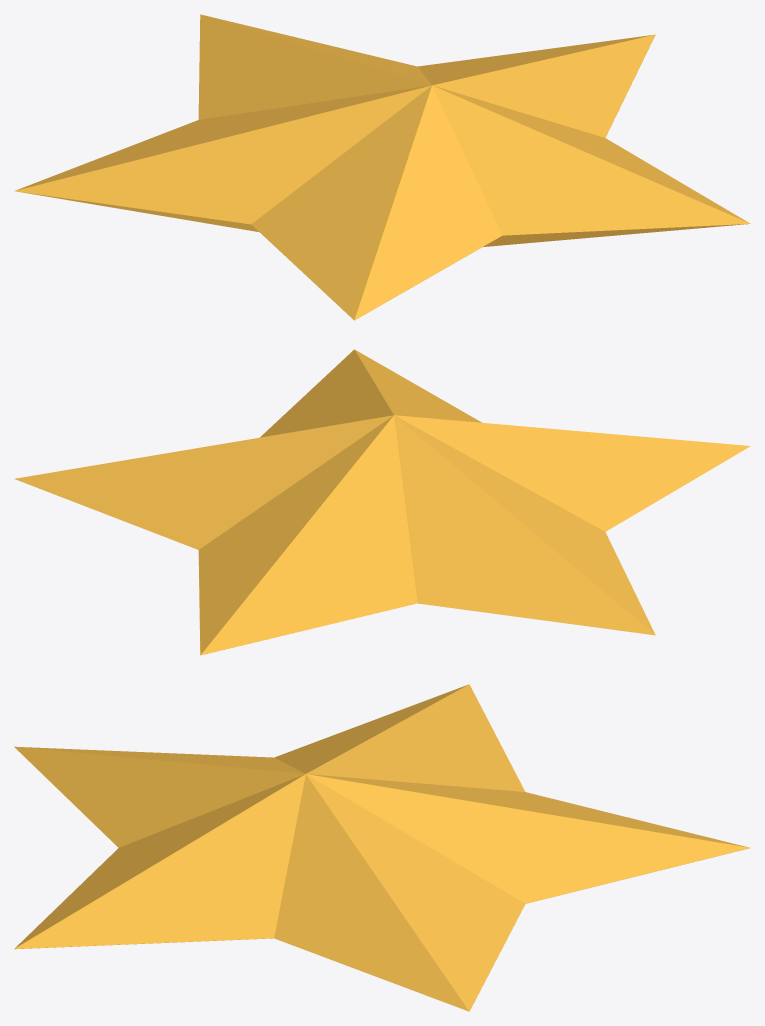
File: star.glb
The picture shows the model from 3 angles, top to bottom: view 1: azimuth 30°, elevation 25°; view 2: azimuth 150°, elevation 25°; view 3: azimuth 270°, elevation 25°; orthographic projection. The views are drawn at different scales.
Parts seen in each view (by area): view 1: Circle; view 2: Circle; view 3: Circle.
Boxes of the visible parts, x1=… form: Circle: x1=14, y1=14, x2=750, y2=320; Circle: x1=14, y1=349, x2=750, y2=655; Circle: x1=14, y1=684, x2=750, y2=1011.
Bounding box in the file's own units: 1.9 × 0.4536 × 1.81.
